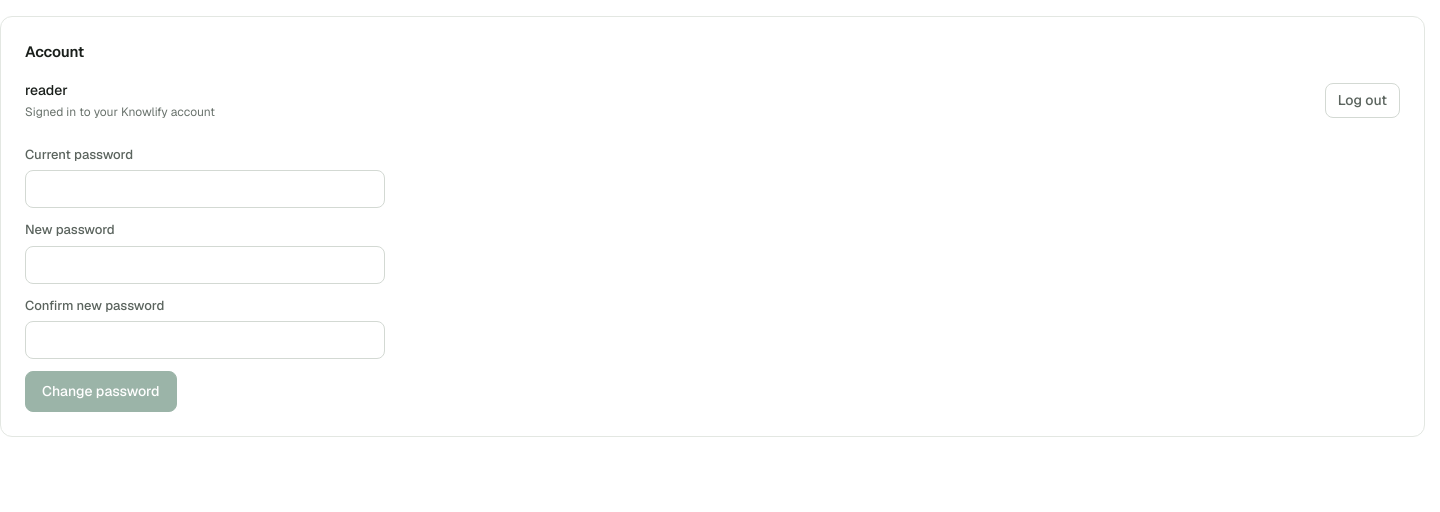
Scenario: AccountCard › maps 429 to the fixed retry message
Type "current-pass" into the password field labelled "Current password" at (205, 189), box [25,170,385,208]
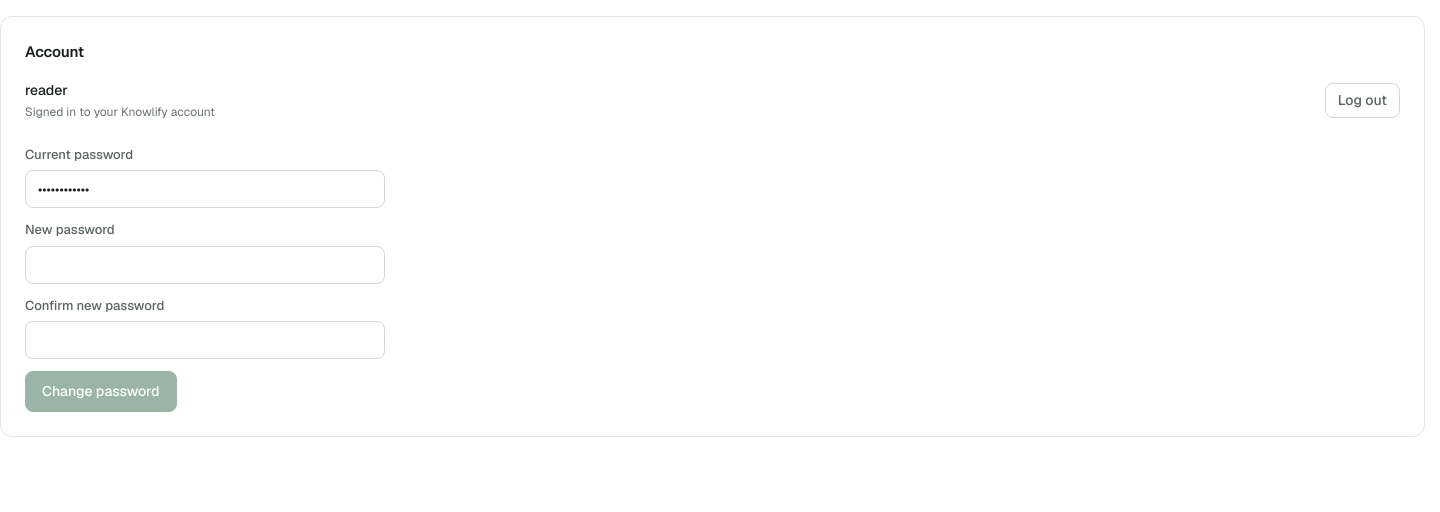
Type "next-password" into the password field labelled "New password" at (205, 264), box [25,246,385,284]
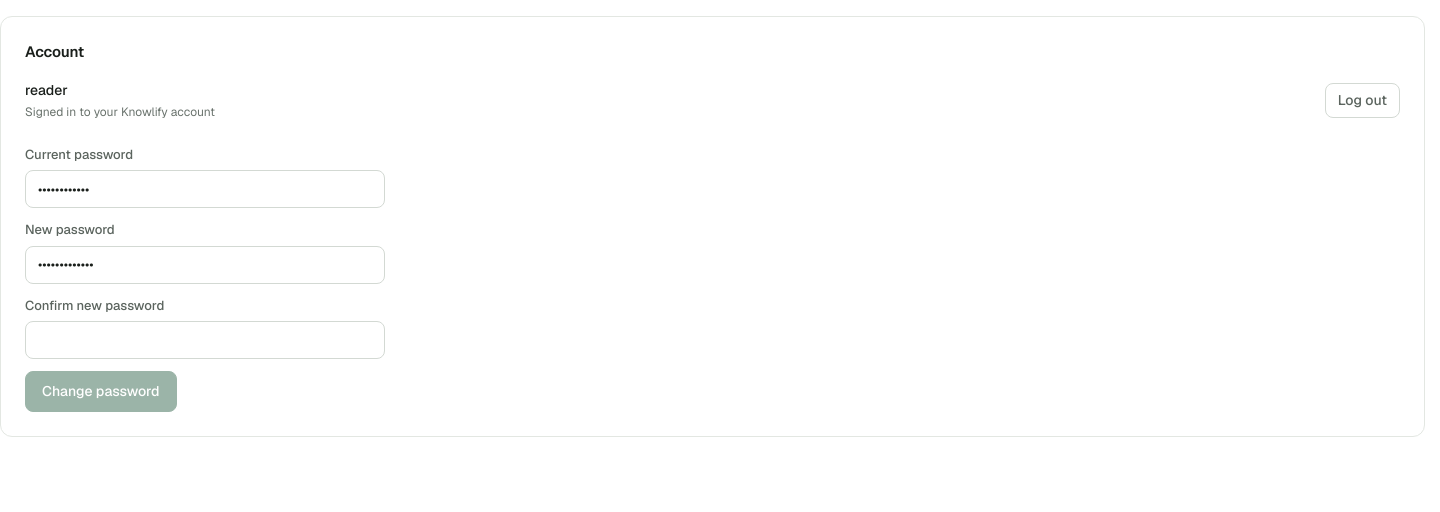
Type "next-password" into the password field labelled "Confirm new password" at (205, 340), box [25,321,385,359]
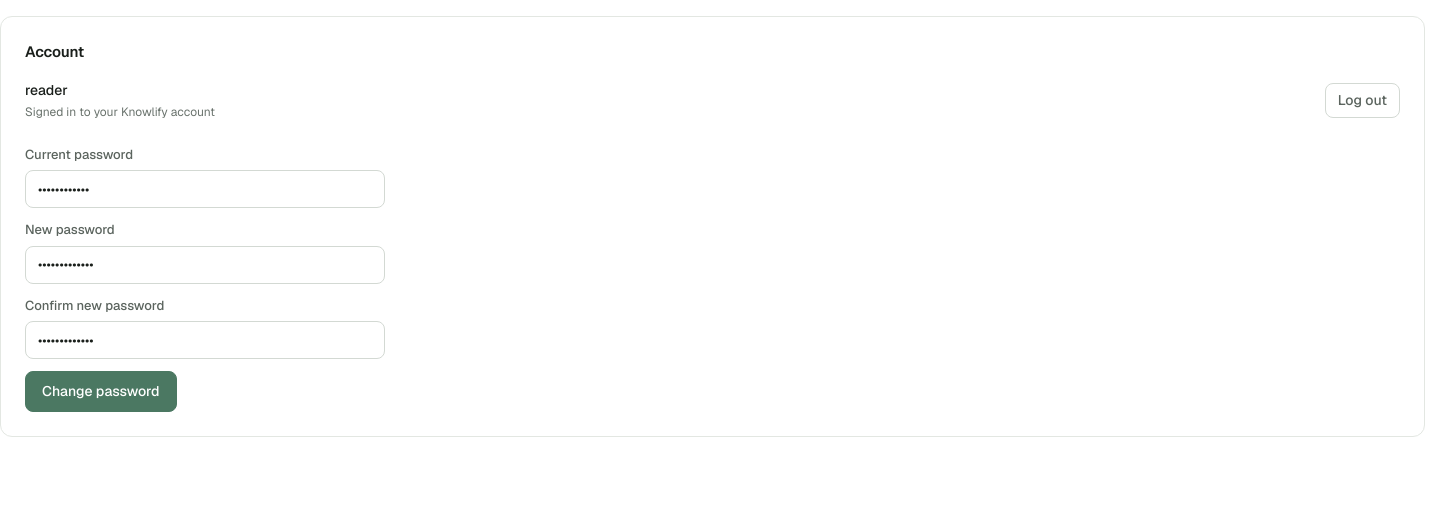
Click the button "Change password" at (101, 392), box [25,371,176,412]
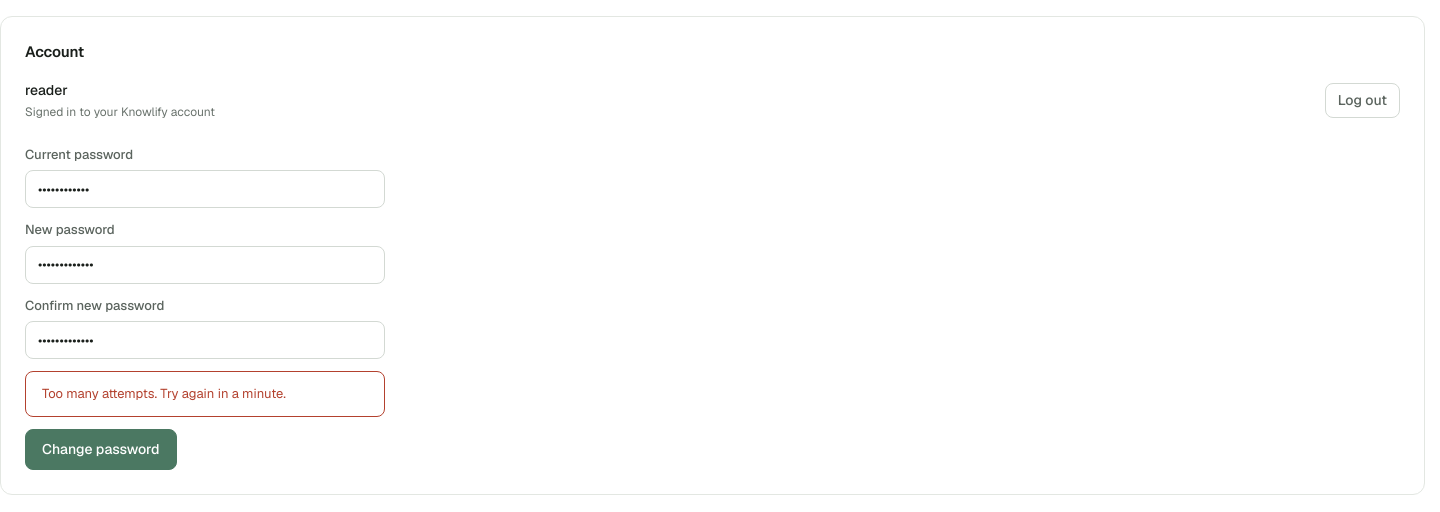
Expected: the message reads "Too many attempts. Try again in a minute.", [42,385,286,402]
